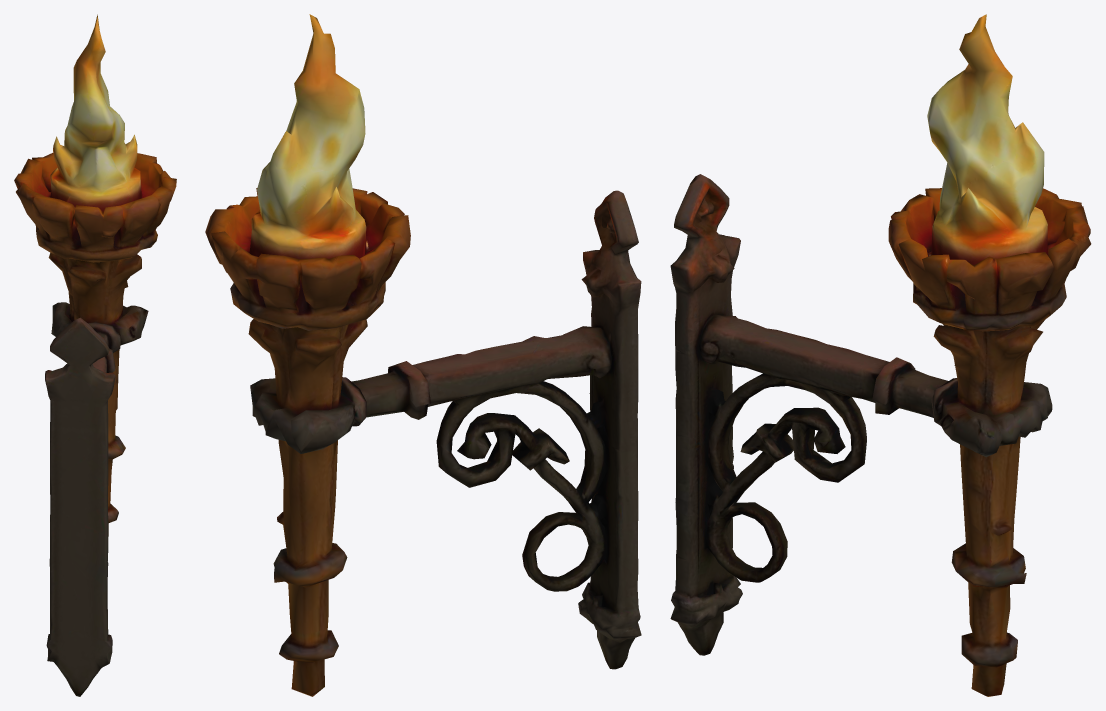
The model's file is torch.glb.
3 renders of one model, left to right at view 1: azimuth 30°, elevation 25°; view 2: azimuth 150°, elevation 25°; view 3: azimuth 270°, elevation 25°, orthographic. The views are drawn at different scales.
Parts seen in each view (by area): view 1: tripo_node_4a78a229-de50-4a87-b5a4-a91ca06bb901; view 2: tripo_node_4a78a229-de50-4a87-b5a4-a91ca06bb901; view 3: tripo_node_4a78a229-de50-4a87-b5a4-a91ca06bb901.
Boxes of the visible parts, <box> form: tripo_node_4a78a229-de50-4a87-b5a4-a91ca06bb901: <box>14,14,176,696</box>; tripo_node_4a78a229-de50-4a87-b5a4-a91ca06bb901: <box>205,14,641,696</box>; tripo_node_4a78a229-de50-4a87-b5a4-a91ca06bb901: <box>670,14,1091,696</box>.
Size of the model in its own units: 0.4163 by 1 by 0.5284.
1 material, 1 textured.
